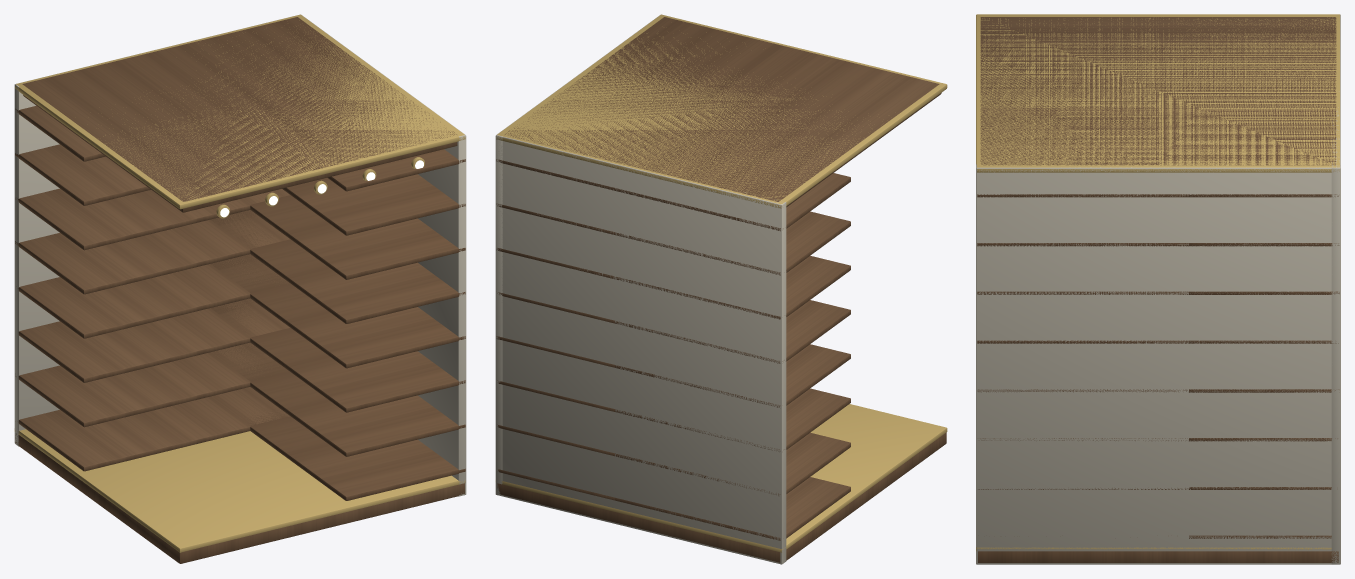
File: pf_display_corner_shelving_t5.glb
3 views of the same model, side by side, from view 1: azimuth 30°, elevation 25°; view 2: azimuth 150°, elevation 25°; view 3: azimuth 270°, elevation 25° (orthographic). The views are drawn at different scales.
Parts seen in each view (by area): view 1: Crown_Main, Plinth_Trim, Crown_Trim, Corner_Shelf_X_01, Corner_Shelf_X_05, Corner_Shelf_X_03, Corner_Shelf_X_02, Corner_Shelf_Y_04, Corner_Shelf_X_04, Corner_Shelf_Y_02, Corner_Back_Y, Corner_Shelf_Y_05 (+10 smaller); view 2: Corner_Back_X, Crown_Main, Crown_Trim, Plinth_Trim, Plinth_Base, Corner_Shelf_X_07, Corner_Back_Y, Corner_Shelf_X_06, Corner_Shelf_X_01, Corner_Shelf_X_05, Corner_Shelf_X_04, Corner_Shelf_X_02 (+2 smaller); view 3: Corner_Back_Y, Crown_Main, Crown_Trim, Plinth_Base, Corner_Back_X, Corner_Shelf_Y_08, Corner_Shelf_Y_07, Corner_Shelf_Y_05, Corner_Shelf_Y_06, Plinth_Trim, Corner_Shelf_X_06, Corner_Shelf_X_04 (+6 smaller).
Boxes of the visible parts, left/top/right/bottom form: Crown_Main: left=22, top=17, right=457, bottom=212; Plinth_Trim: left=14, top=428, right=465, bottom=552; Crown_Trim: left=15, top=14, right=465, bottom=209; Corner_Shelf_X_01: left=18, top=387, right=289, bottom=471; Corner_Shelf_X_05: left=15, top=210, right=289, bottom=294; Corner_Shelf_X_03: left=18, top=298, right=290, bottom=382; Corner_Shelf_X_02: left=15, top=342, right=281, bottom=427; Corner_Shelf_Y_04: left=210, top=254, right=465, bottom=368; Corner_Shelf_X_04: left=18, top=254, right=286, bottom=338; Corner_Shelf_Y_02: left=211, top=343, right=465, bottom=456; Corner_Back_Y: left=300, top=14, right=466, bottom=496; Corner_Shelf_Y_05: left=210, top=210, right=465, bottom=323; Corner_Back_X: left=495, top=132, right=786, bottom=564; Crown_Main: left=505, top=17, right=941, bottom=207; Crown_Trim: left=496, top=14, right=947, bottom=208; Plinth_Trim: left=495, top=404, right=947, bottom=552; Plinth_Base: left=497, top=432, right=946, bottom=562; Corner_Shelf_X_07: left=497, top=205, right=850, bottom=275; Corner_Back_Y: left=495, top=14, right=662, bottom=496; Corner_Shelf_X_06: left=517, top=254, right=850, bottom=319; Corner_Shelf_X_01: left=583, top=477, right=850, bottom=540; Corner_Shelf_X_05: left=502, top=295, right=850, bottom=363; Corner_Shelf_X_04: left=615, top=344, right=850, bottom=407; Corner_Shelf_X_02: left=615, top=432, right=850, bottom=495; Corner_Back_Y: left=976, top=164, right=1340, bottom=564; Crown_Main: left=980, top=17, right=1336, bottom=165; Crown_Trim: left=976, top=14, right=1339, bottom=172; Plinth_Base: left=978, top=551, right=1338, bottom=562; Corner_Back_X: left=1331, top=14, right=1340, bottom=564; Corner_Shelf_Y_08: left=977, top=194, right=1334, bottom=197; Corner_Shelf_Y_07: left=977, top=243, right=1331, bottom=246; Corner_Shelf_Y_05: left=977, top=340, right=1336, bottom=343; Corner_Shelf_Y_06: left=977, top=291, right=1246, bottom=294; Plinth_Trim: left=976, top=547, right=1331, bottom=551; Corner_Shelf_X_06: left=1189, top=291, right=1339, bottom=294; Corner_Shelf_X_04: left=1189, top=389, right=1339, bottom=392.
Bounding box in the file's own units: 2.15 × 2.58 × 2.15.
Materials: 5 (1 with a texture image).
